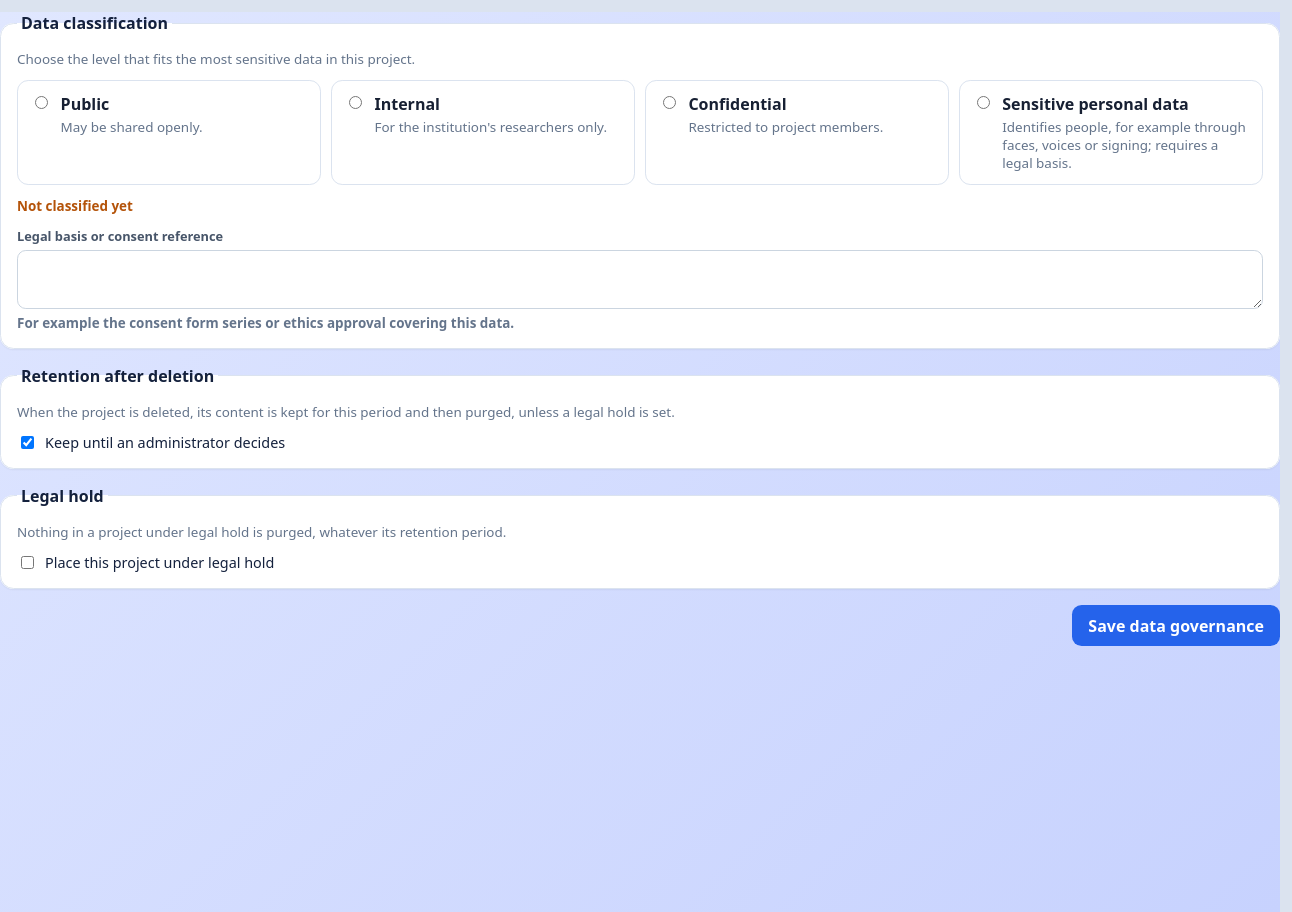
Test: ConfigureDataGovernance › reports a failed save without losing the form
The width and height of the screenshot is (1292, 912).
Click the radio button labelled "Public May be shared openly." at (42,102), box [35, 96, 48, 109]
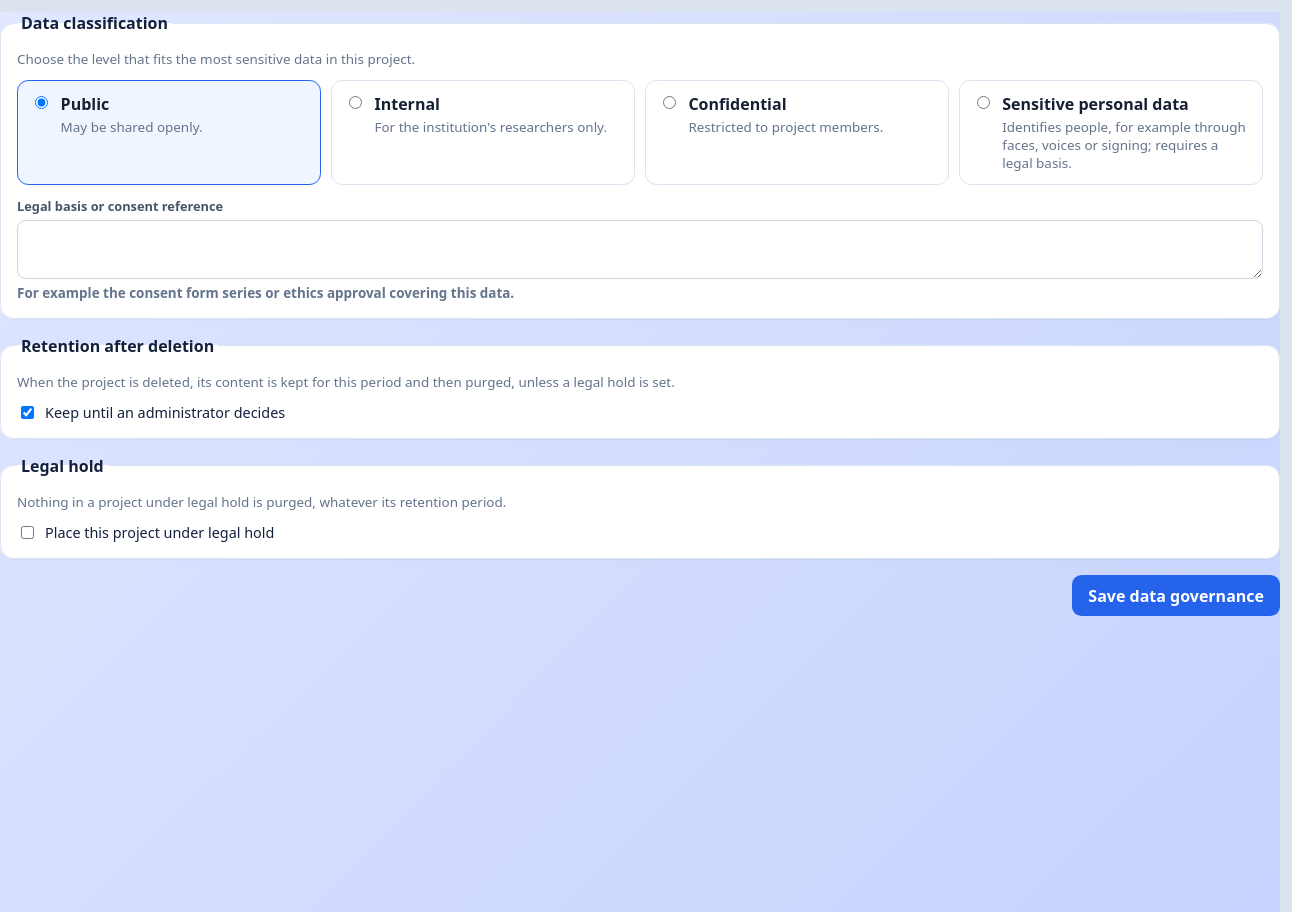
Submit the form
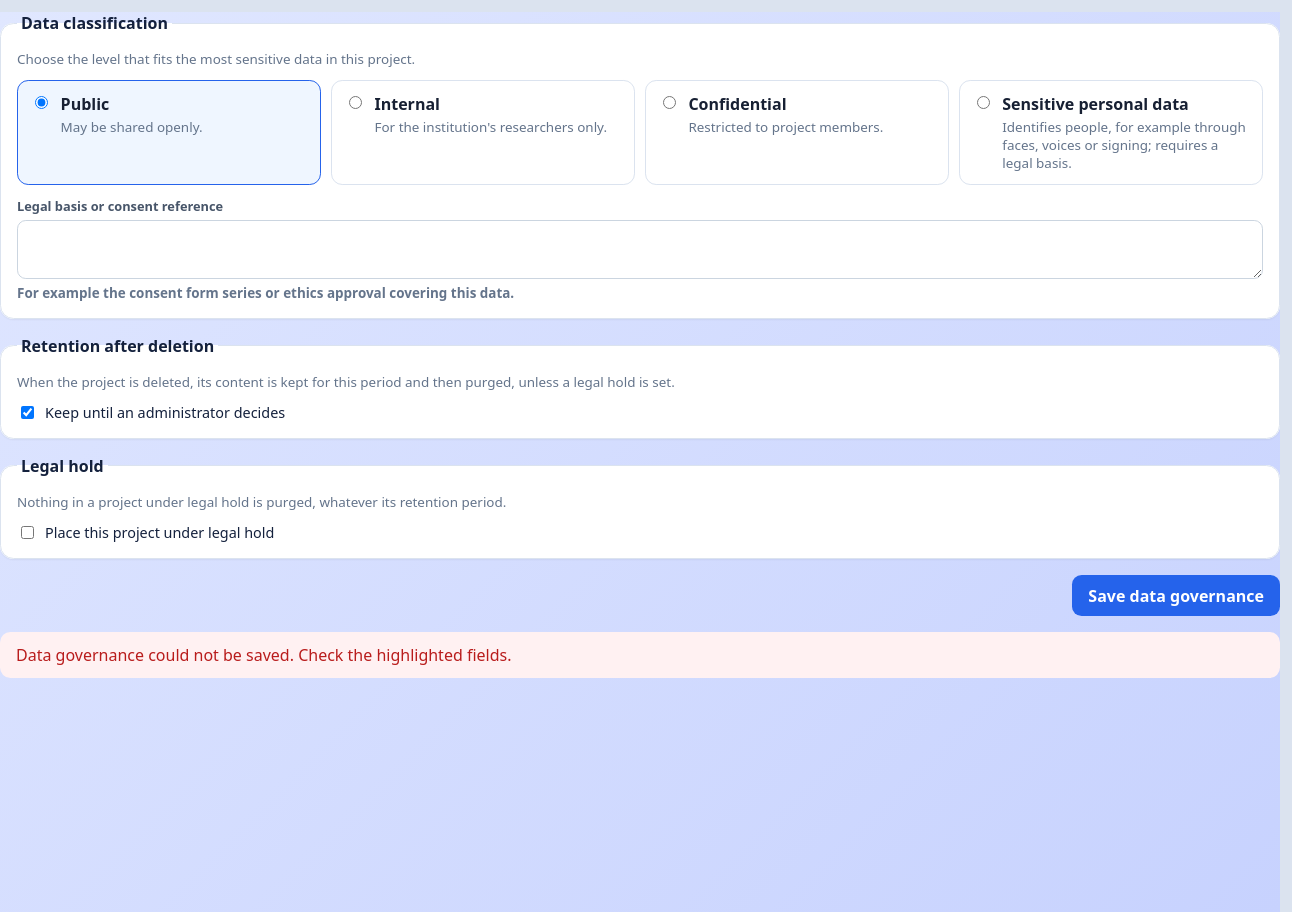
expect the radio button labelled "Public May be shared openly." is checked: met, box [35, 96, 48, 109]
expect the text with class "error" shows "could not be saved": met, box [16, 644, 512, 666]
